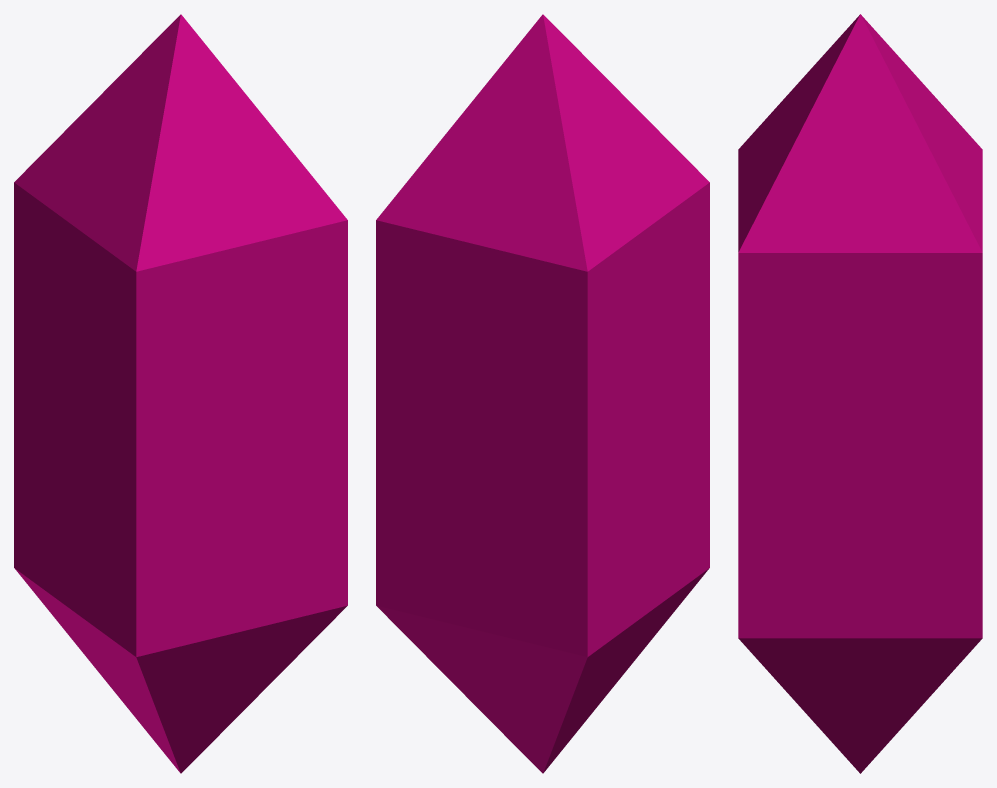
File: treasure2ButtonText.obj
The picture shows the model from 3 angles, left to right: view 1: azimuth 30°, elevation 25°; view 2: azimuth 150°, elevation 25°; view 3: azimuth 270°, elevation 25°; orthographic projection.
Parts seen in each view (by area): view 1: treasure2ButtonText; view 2: treasure2ButtonText; view 3: treasure2ButtonText.
Part boxes in pixels (x1=…): treasure2ButtonText: x1=14, y1=14, x2=347, y2=773; treasure2ButtonText: x1=376, y1=14, x2=709, y2=773; treasure2ButtonText: x1=738, y1=14, x2=982, y2=773.
Bounding box in the file's own units: 0.2169 × 0.7443 × 0.2169.
